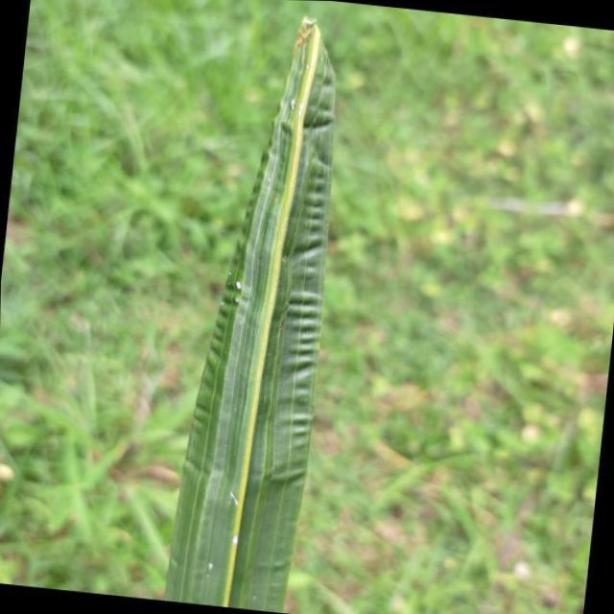Boron: (157, 11, 337, 614)
